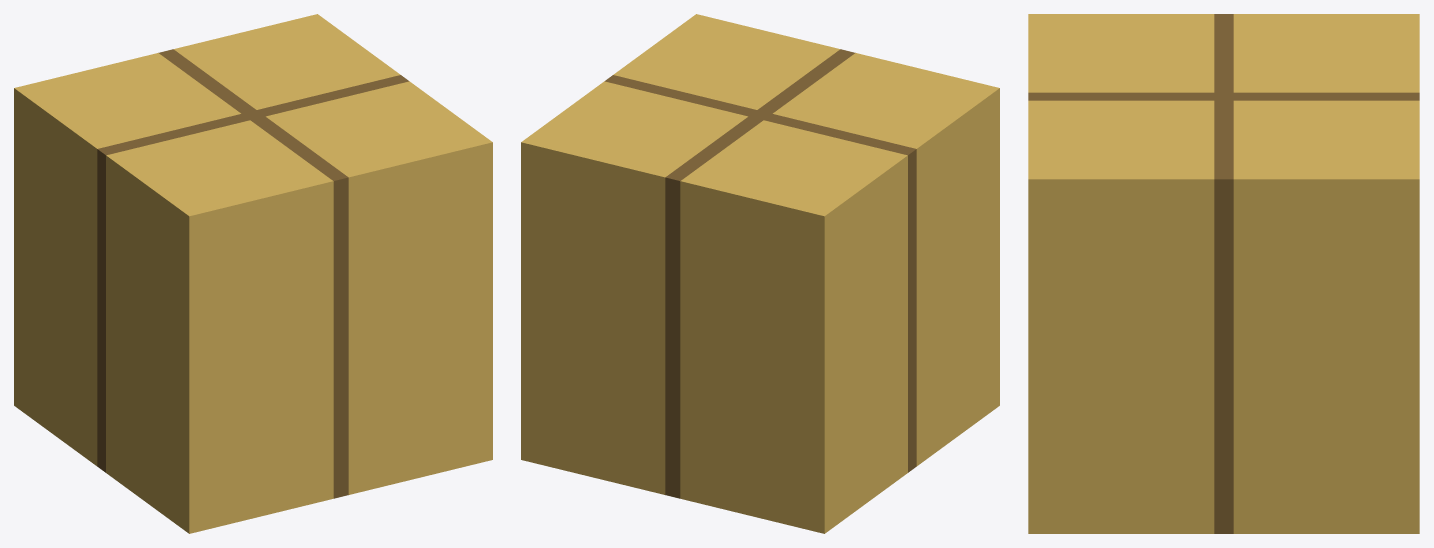
Rendered from package.fbx.
3 renders of one model, left to right at view 1: azimuth 30°, elevation 25°; view 2: azimuth 150°, elevation 25°; view 3: azimuth 270°, elevation 25°, orthographic. The views are drawn at different scales.
Visible parts, largest first — view 1: Cube; view 2: Cube; view 3: Cube.
Part boxes in pixels (x1,y1,x2,y2): Cube: (14,14,492,533); Cube: (521,14,999,533); Cube: (1028,14,1419,533).
Size of the model in its own units: 200 by 200 by 200.
